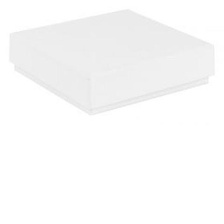foam_box: (3, 5, 218, 118)
